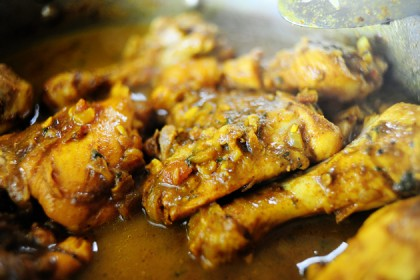chicken_curry: (32, 78, 413, 262)
